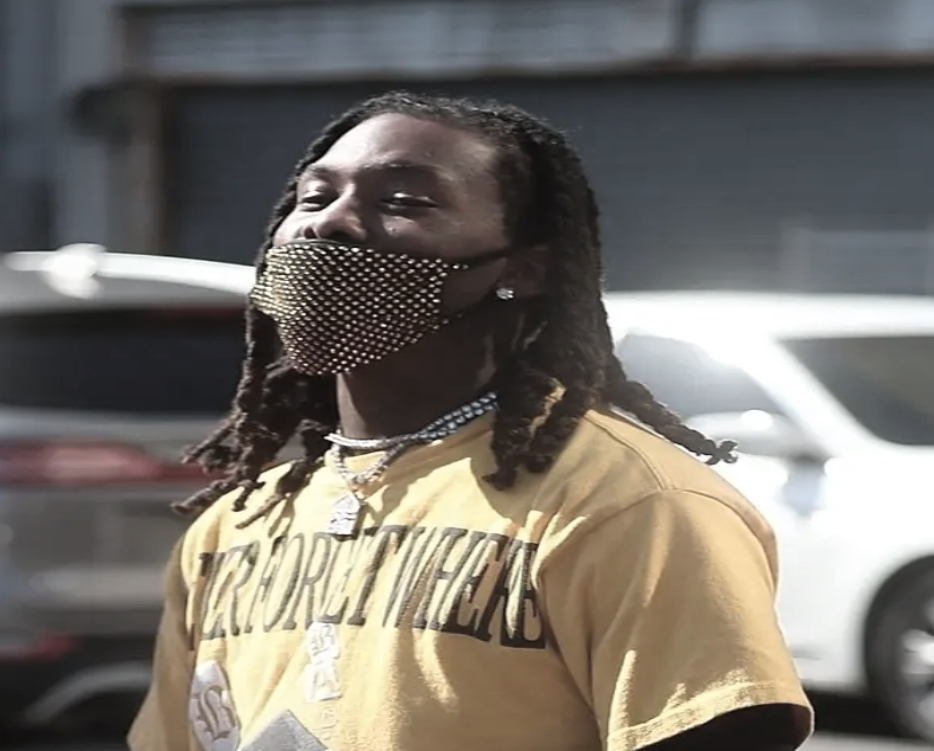mask_weared_incorrect: (242, 90, 595, 377)
